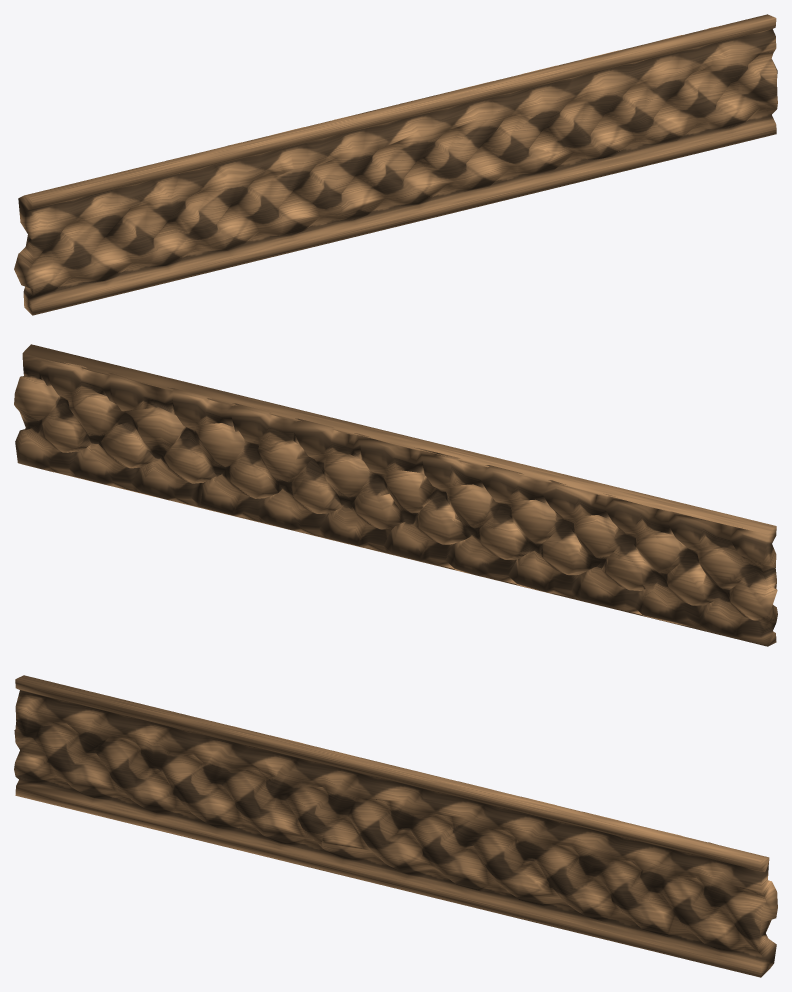
File: carve_flette.glb
The picture shows the model from 3 angles, top to bottom: view 1: azimuth 30°, elevation 25°; view 2: azimuth 150°, elevation 25°; view 3: azimuth 330°, elevation 25°; orthographic projection.
Parts seen in each view (by area): view 1: relief; view 2: relief; view 3: relief.
Part boxes in pixels (<box>): relief: <box>14,14,777,315</box>; relief: <box>14,344,777,646</box>; relief: <box>14,675,777,977</box>.
Bounding box in the file's own units: 2.04 × 0.2986 × 0.0723.
Materials: 1 (1 with a texture image).
